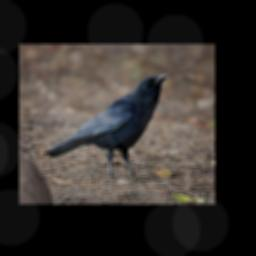Crow: (45, 74, 170, 182)
